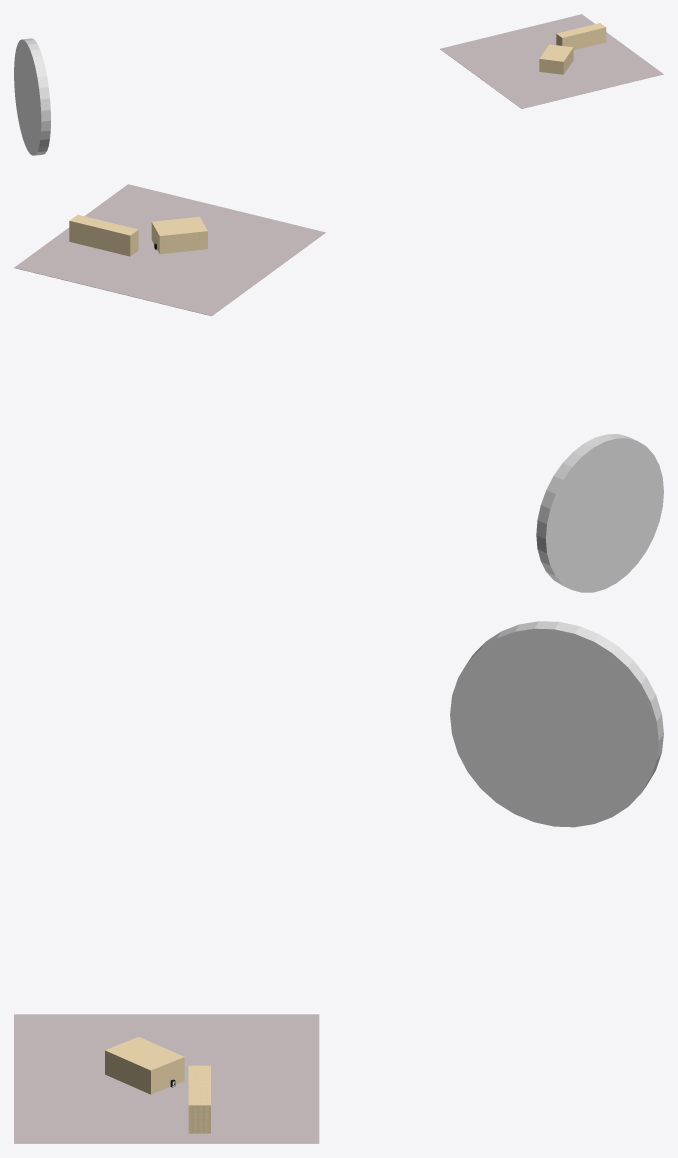
The picture shows the model from 3 angles, top to bottom: view 1: azimuth 30°, elevation 25°; view 2: azimuth 150°, elevation 25°; view 3: azimuth 270°, elevation 25°; orthographic projection. The views are drawn at different scales.
Parts seen in each view (by area): view 1: ground, Circle.008, Cube.001, Cube.002; view 2: ground, Circle.008, Cube.001, Cube.002; view 3: ground, Circle.008, Cube.002, Cube.001.
Part boxes in pixels (left/top/right/bottom): ground: left=440, top=14, right=663, bottom=108; Circle.008: left=14, top=38, right=50, bottom=155; Cube.001: left=556, top=23, right=606, bottom=50; Cube.002: left=539, top=44, right=573, bottom=74; ground: left=14, top=184, right=325, bottom=316; Circle.008: left=536, top=434, right=663, bottom=592; Cube.001: left=69, top=215, right=138, bottom=256; Cube.002: left=151, top=216, right=207, bottom=254; ground: left=14, top=1014, right=319, bottom=1143; Circle.008: left=450, top=621, right=663, bottom=827; Cube.002: left=105, top=1037, right=184, bottom=1094; Cube.001: left=188, top=1065, right=210, bottom=1133.
Bounding box in the file's own units: 653 × 131 × 392.
Materials: 9 (8 with a texture image).
